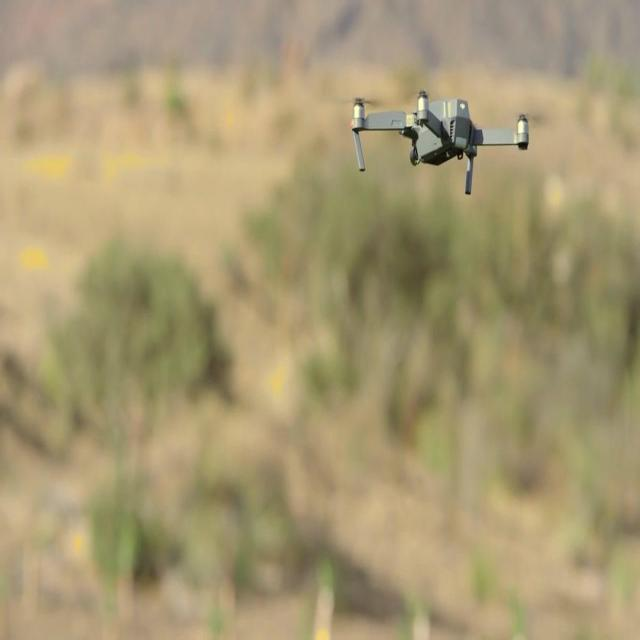drone: (349, 86, 532, 195)
